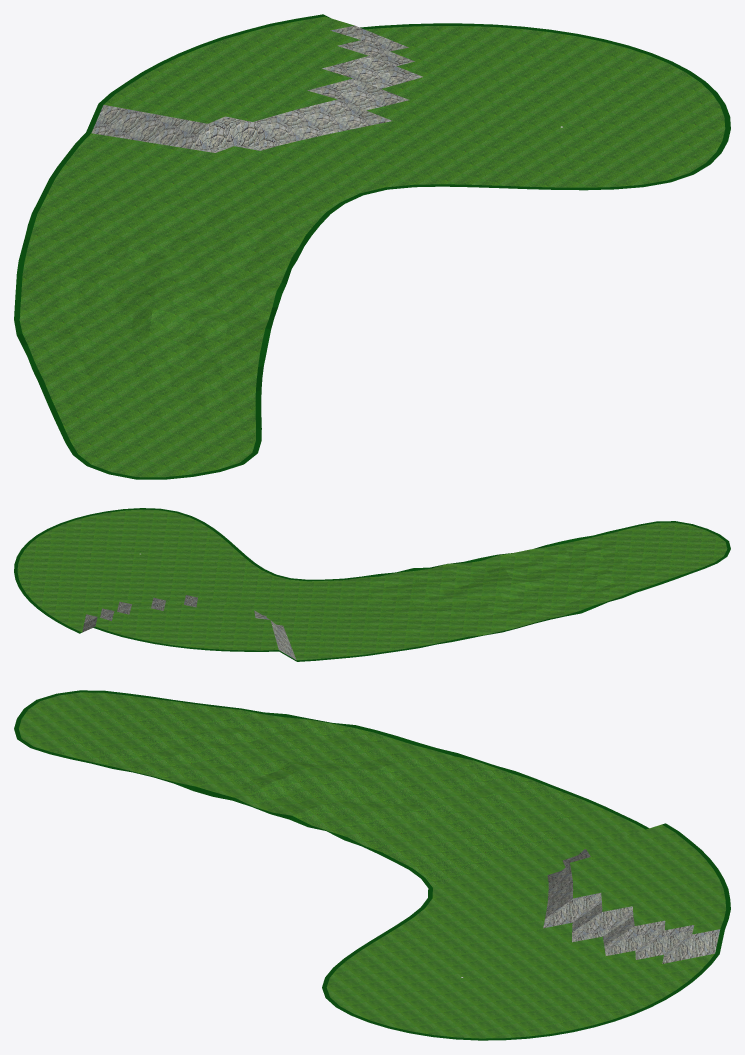
The model's file is course_deformed.glb.
3 renders of one model, top to bottom at view 1: azimuth 30°, elevation 25°; view 2: azimuth 150°, elevation 25°; view 3: azimuth 270°, elevation 25°, orthographic. The views are drawn at different scales.
Visible parts, largest first — view 1: Plane.003; view 2: Plane.003; view 3: Plane.003.
Part boxes in pixels (<box>): Plane.003: <box>14,14,730,479</box>; Plane.003: <box>14,508,730,661</box>; Plane.003: <box>14,690,730,1040</box>.
Size of what is drawn, in the model's own units: 691 by 14.46 by 598.
4 materials, 2 textured.
